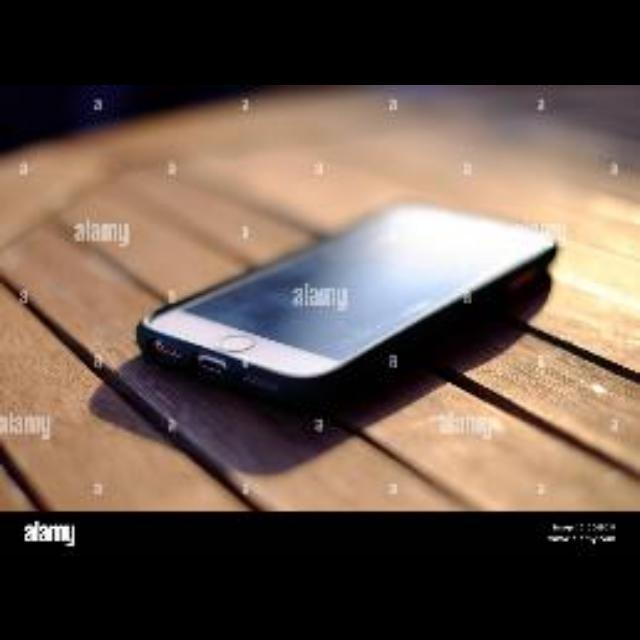Phone: (136, 198, 554, 402)
